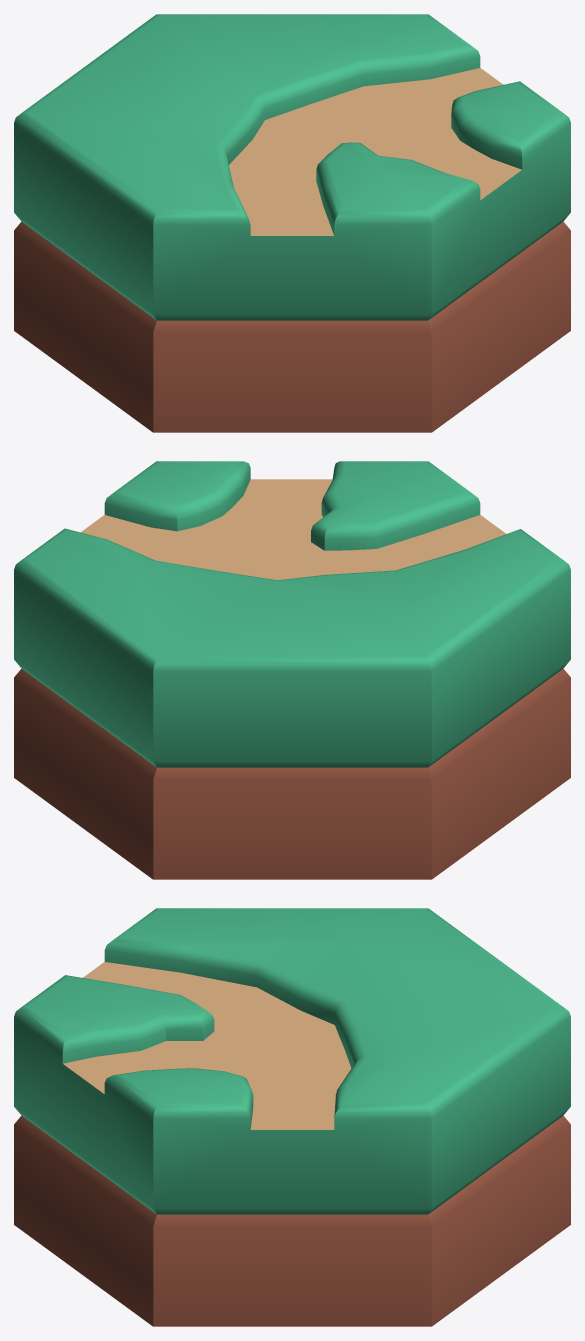
Rendered from hex_forest_roadH_detail.glb.
3 views of the same model, one above another, from view 1: azimuth 30°, elevation 25°; view 2: azimuth 150°, elevation 25°; view 3: azimuth 270°, elevation 25° (orthographic).
Parts seen in each view (by area): view 1: hex_forest_roadH_detail; view 2: hex_forest_roadH_detail; view 3: hex_forest_roadH_detail.
Boxes of the visible parts, <box> form: hex_forest_roadH_detail: <box>14,14,570,432</box>; hex_forest_roadH_detail: <box>14,461,570,879</box>; hex_forest_roadH_detail: <box>14,908,570,1326</box>.
Size of the model in its own units: 2 by 1 by 2.31.
